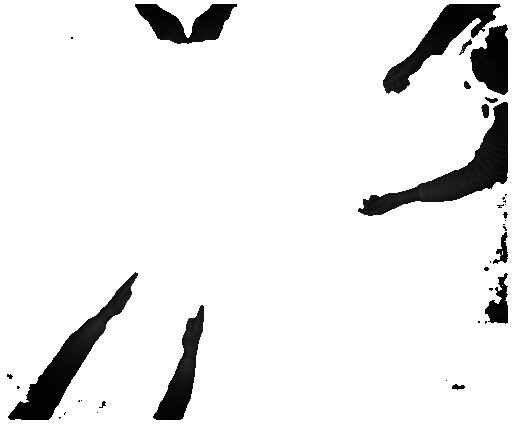fist: (377, 64, 415, 95)
hand: (144, 10, 190, 47), (190, 14, 239, 47), (354, 186, 402, 215)
spine: (101, 272, 143, 321), (180, 304, 207, 359)
